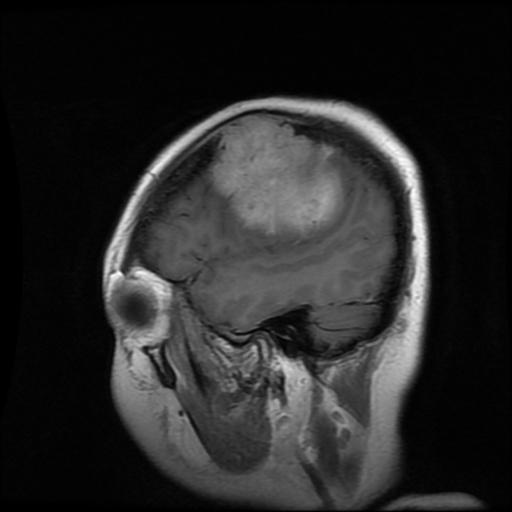meningioma: (212, 114, 340, 235)
